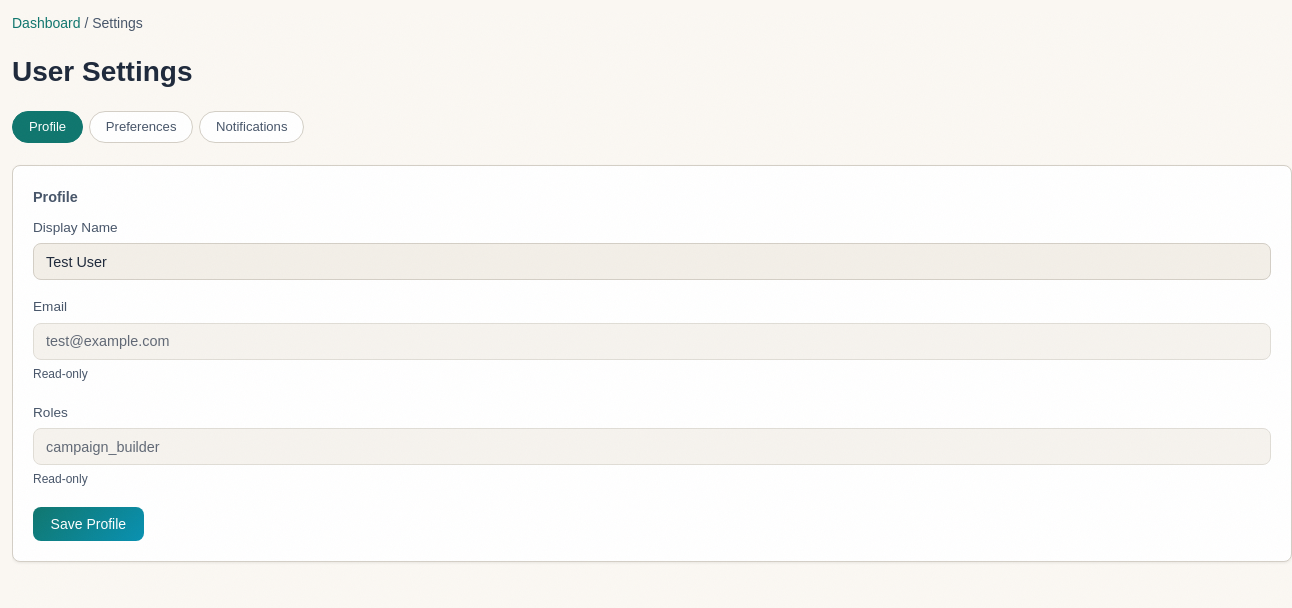
Test: UserSettings – tab scaffold › switches to Preferences tab on click
Expected: the heading "User Settings" is shown, 12,50 -> 192,95
Step 1. Click the tab "Preferences" → (141, 127), box 89,111 -> 194,143
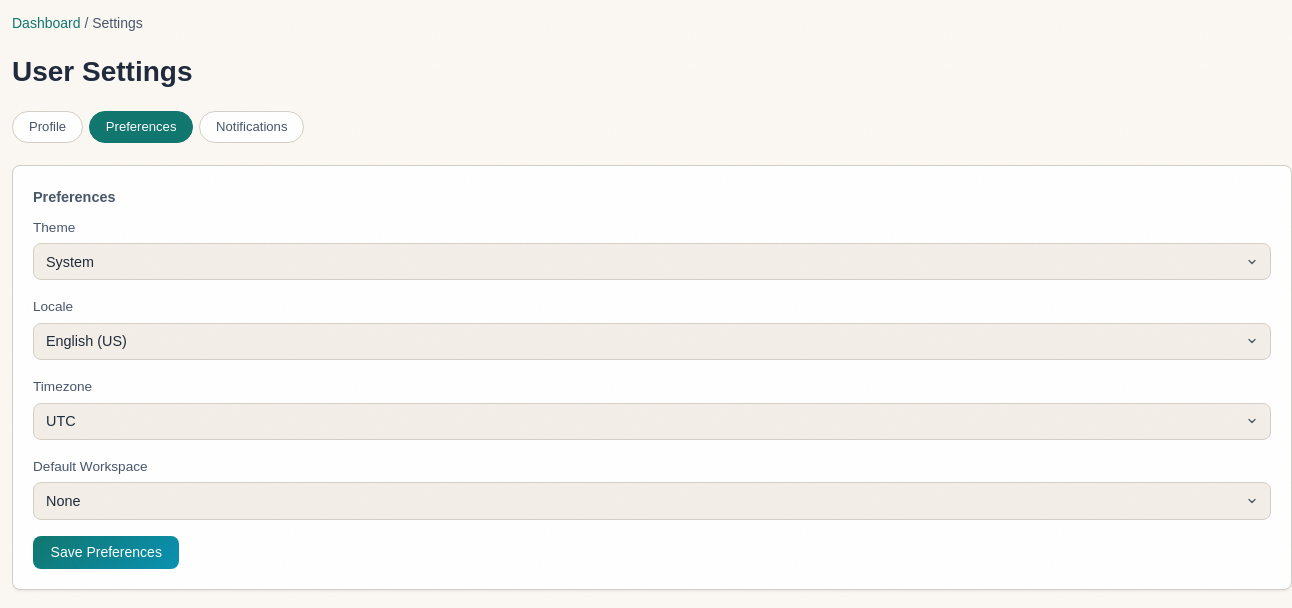
Now the element with test id "tab-preferences" is shown
Now the element with test id "tab-profile" is gone
